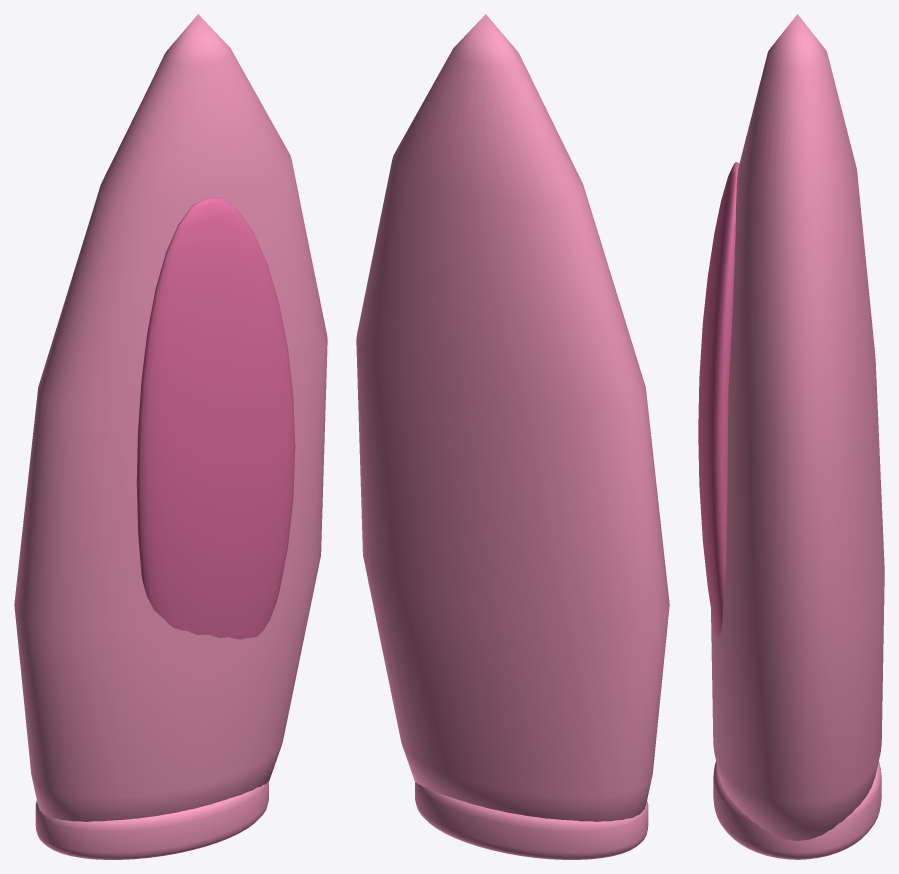
Rendered from ear.glb.
The picture shows the model from 3 angles, left to right: view 1: azimuth 30°, elevation 25°; view 2: azimuth 150°, elevation 25°; view 3: azimuth 270°, elevation 25°; orthographic projection. The views are drawn at different scales.
Parts seen in each view (by area): view 1: ear_outer, ear_inner, ear_attachment_base; view 2: ear_outer, ear_attachment_base; view 3: ear_outer, ear_inner, ear_attachment_base.
Boxes of the visible parts, x1,y1,x2,y2 form: ear_outer: [14, 14, 327, 821]; ear_inner: [136, 197, 295, 639]; ear_attachment_base: [35, 782, 268, 859]; ear_outer: [356, 14, 669, 821]; ear_attachment_base: [415, 782, 648, 859]; ear_outer: [711, 14, 884, 859]; ear_inner: [698, 162, 739, 637]; ear_attachment_base: [713, 761, 881, 859].
Size of the model in its own units: 0.119 by 0.3 by 0.062.
